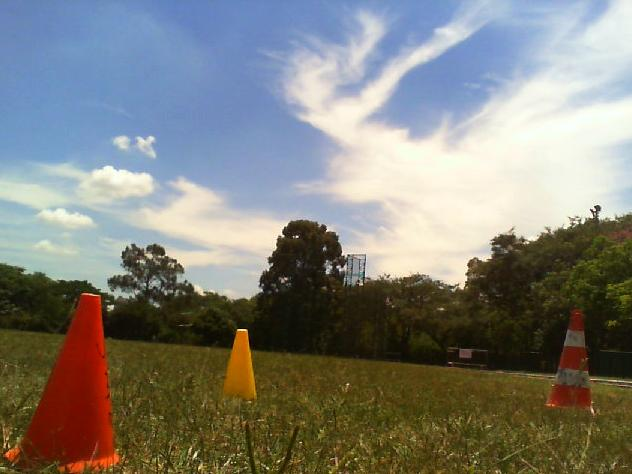0 cone: (3, 293, 120, 474), (543, 312, 592, 409), (219, 329, 257, 402)
